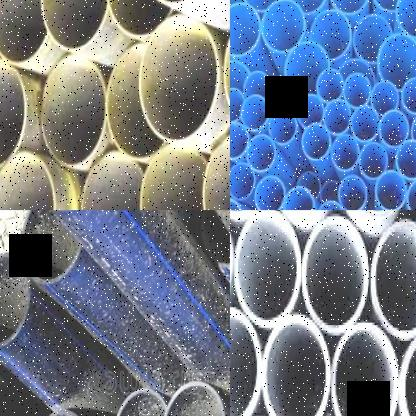pipe: (139, 14, 221, 144), (38, 52, 111, 168), (301, 218, 370, 332), (233, 210, 300, 327), (107, 40, 164, 162), (263, 314, 330, 416), (332, 323, 398, 416), (370, 220, 416, 338), (139, 146, 210, 210), (21, 210, 81, 284), (78, 147, 144, 210), (36, 0, 110, 51), (0, 148, 56, 210), (230, 306, 261, 416), (0, 0, 49, 66), (0, 55, 28, 170), (0, 253, 31, 349), (284, 40, 331, 98), (201, 123, 230, 210), (106, 0, 174, 36), (261, 0, 306, 53), (162, 380, 227, 416), (376, 33, 416, 91), (310, 10, 352, 61), (353, 15, 393, 63), (201, 210, 230, 267), (398, 327, 416, 416), (230, 2, 260, 55), (113, 388, 167, 416), (376, 170, 407, 210), (378, 110, 410, 147), (301, 123, 331, 160), (240, 94, 270, 131), (359, 142, 388, 180), (254, 175, 285, 210), (247, 134, 275, 172), (337, 175, 367, 210), (269, 109, 298, 145), (331, 134, 359, 171), (352, 106, 380, 142), (323, 99, 351, 135), (370, 81, 398, 116), (342, 73, 370, 108), (315, 68, 343, 103), (230, 61, 249, 110), (230, 163, 255, 200), (266, 76, 294, 109), (298, 94, 324, 128), (395, 140, 416, 179), (395, 0, 416, 39), (283, 186, 315, 210), (244, 70, 271, 98), (230, 122, 249, 159), (297, 172, 321, 199), (400, 77, 416, 114), (286, 0, 328, 14), (329, 0, 369, 14), (371, 0, 411, 13), (230, 87, 245, 121), (320, 180, 340, 204), (241, 0, 284, 11), (133, 0, 212, 5), (407, 177, 416, 210), (316, 200, 345, 210), (411, 113, 416, 149)
